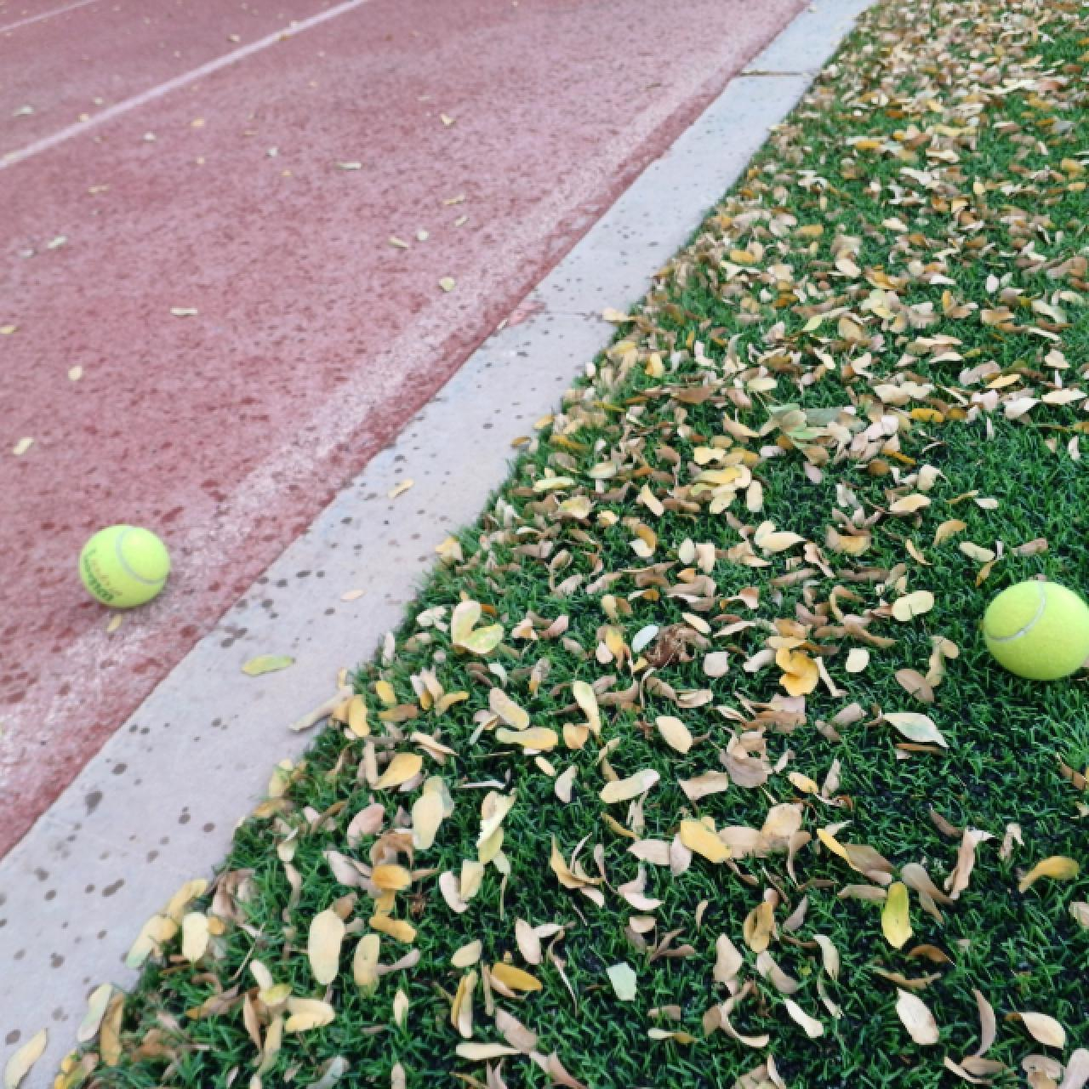tennis-ball: (982, 579, 1089, 682), (78, 523, 173, 611)
